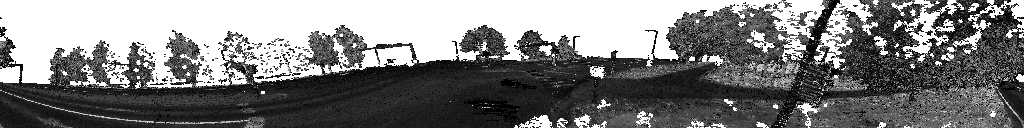gantry_sign_pole: (519, 42, 557, 66), (363, 44, 414, 53), (6, 60, 23, 82)
light_pole: (771, 0, 839, 127), (645, 31, 659, 70), (573, 37, 579, 61), (452, 42, 458, 62)
traffic_pole: (589, 66, 606, 105), (241, 65, 258, 99), (610, 51, 617, 79)
